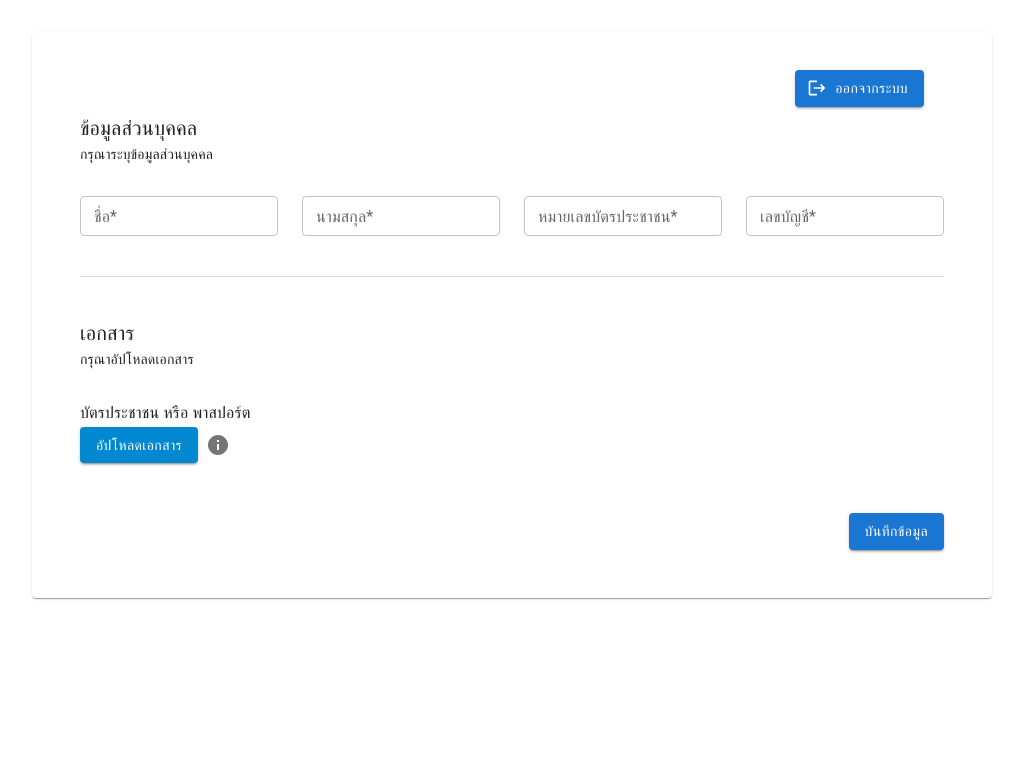
Test: <ConfirmView /> › show error text input file when submit
The width and height of the screenshot is (1024, 768).
What coordinates should you click on to do the following:
click the button with test id "submit-button"
I would click on:
 (896, 531)
Its box is [848,513,944,550].
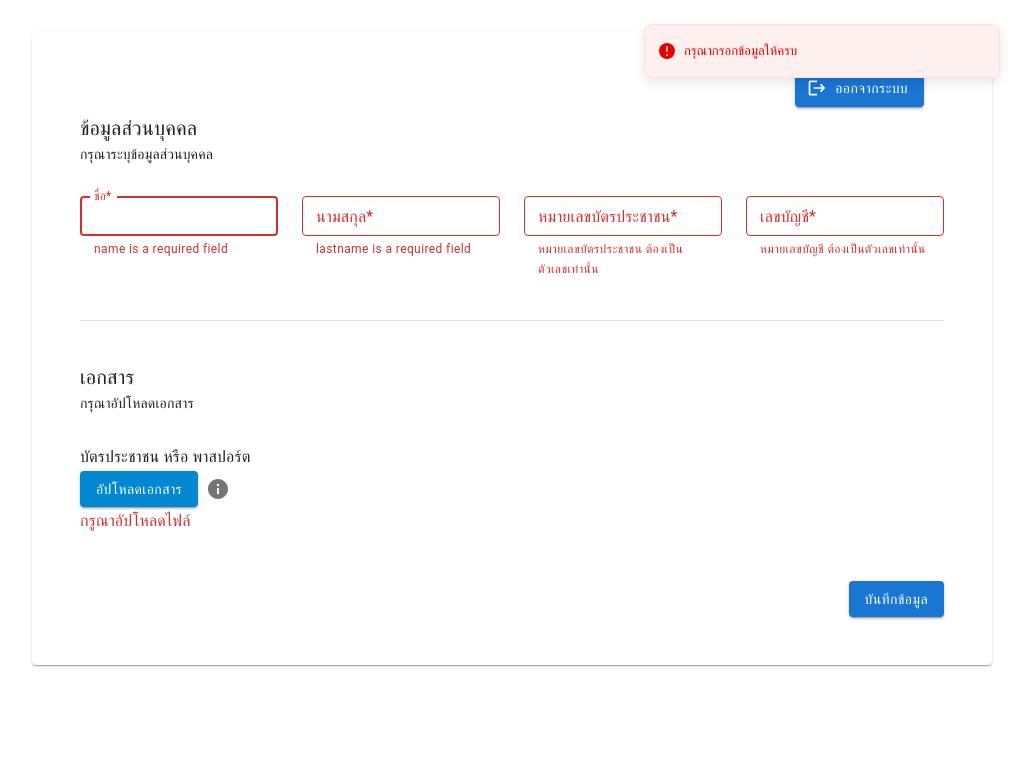
Expected: the text "กรูณาอัปโหลดไฟล์" is shown, [80,511,190,530]
